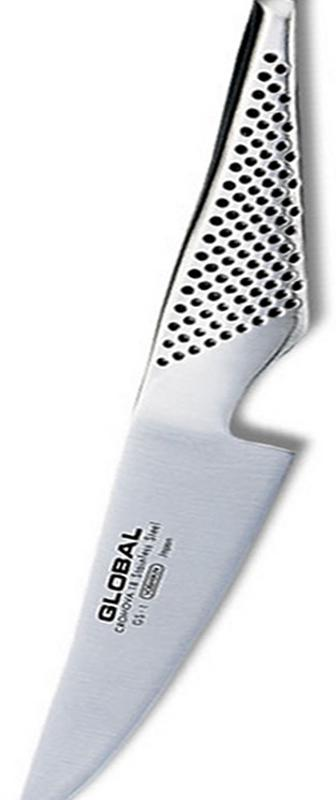knife: (25, 3, 314, 798)
